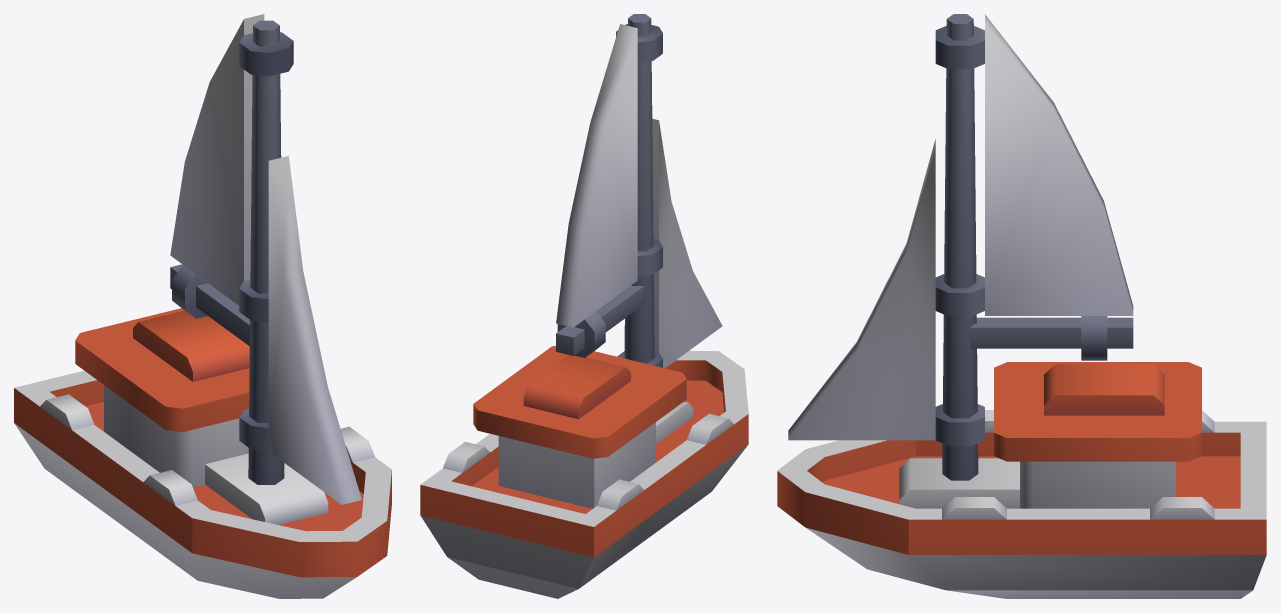
File: sailboat.glb
The picture shows the model from 3 angles, left to right: view 1: azimuth 30°, elevation 25°; view 2: azimuth 150°, elevation 25°; view 3: azimuth 270°, elevation 25°; orthographic projection. The views are drawn at different scales.
Visible parts, largest first — view 1: boat-sail-a, sail; view 2: boat-sail-a, sail; view 3: boat-sail-a, sail.
Boxes of the visible parts, x1=… form: boat-sail-a: x1=14, y1=308, x2=391, y2=598; sail: x1=170, y1=14, x2=361, y2=504; boat-sail-a: x1=420, y1=346, x2=748, y2=598; sail: x1=556, y1=14, x2=722, y2=368; boat-sail-a: x1=777, y1=362, x2=1266, y2=598; sail: x1=788, y1=14, x2=1133, y2=480.
Bounding box in the file's own units: 1.78 × 4.74 × 3.77.
